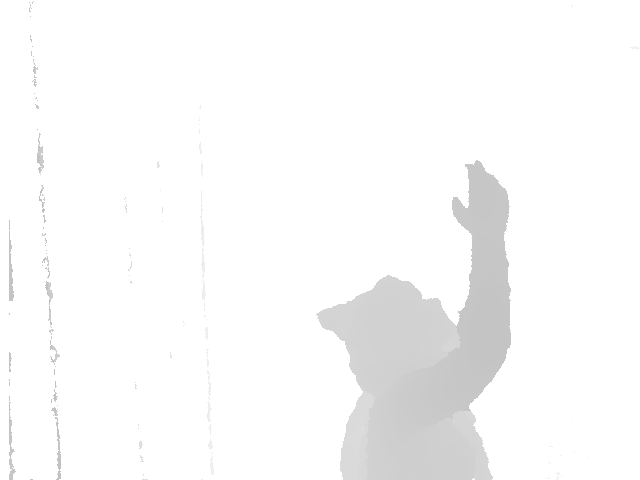hand: (452, 158, 513, 238)
head: (315, 273, 462, 369)
person: (316, 158, 513, 480)
